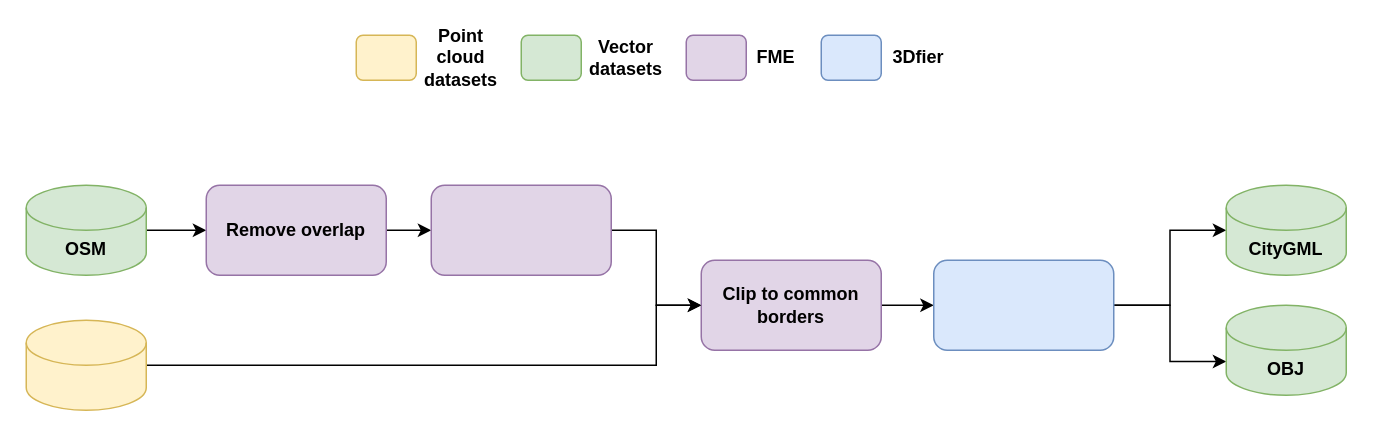
Some shapes in this 1373 by 437 pixel diagram are drawn without their labels. The shapes that lost their labels are listed below. From the top down, each one's centre as x and y in pixels, then its label:
At (520,229): "Assign respective classes".
At (1023,304): "Constraint Delaunay triangulation".
At (85,364): "ALS".
